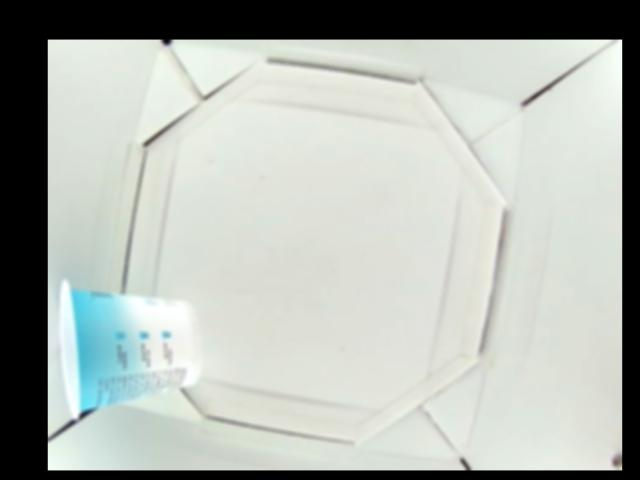Cup: (58, 280, 199, 421)
